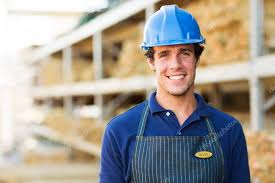Person_wearing_helmet: (135, 0, 207, 62)
